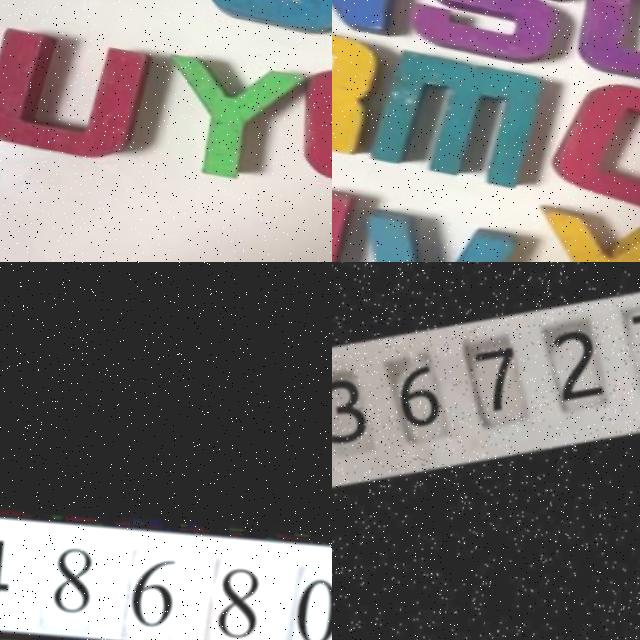0: (279, 560, 332, 640)
2: (522, 301, 627, 422)
3: (332, 353, 388, 465)
4: (0, 518, 26, 619)
6: (369, 339, 462, 447), (114, 538, 189, 637)
7: (447, 322, 542, 432), (603, 283, 640, 399)
8: (35, 531, 105, 622), (200, 553, 273, 640)
G: (577, 0, 640, 92)
J: (212, 0, 332, 39)
M: (358, 41, 547, 188)
O: (554, 73, 640, 213), (297, 58, 332, 199)
R: (332, 13, 381, 152)
S: (409, 0, 585, 70)
U: (0, 24, 147, 159)
V: (351, 205, 527, 262)
X: (527, 203, 640, 262)
Y: (154, 49, 305, 184)
